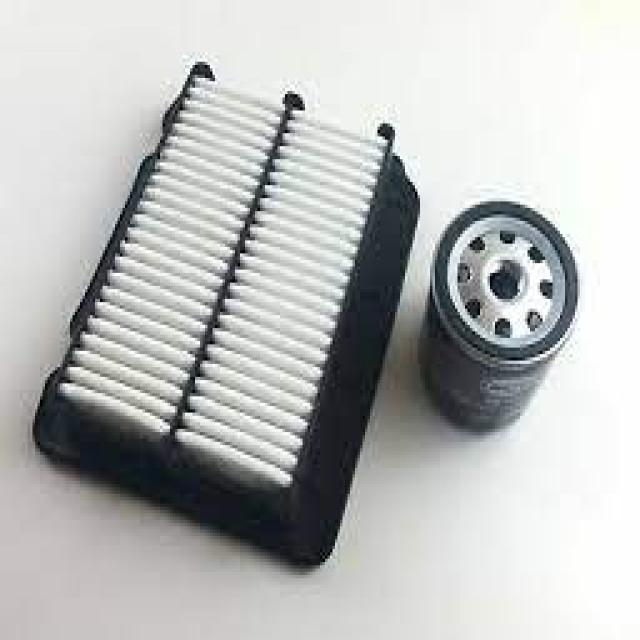air_filter: (22, 62, 416, 578)
oil_filter: (418, 194, 579, 439)
